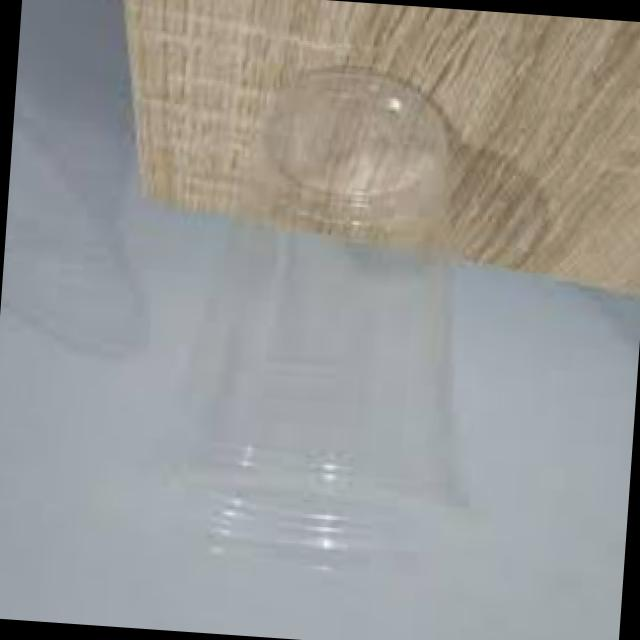GelasPlastik: (174, 58, 502, 583)
